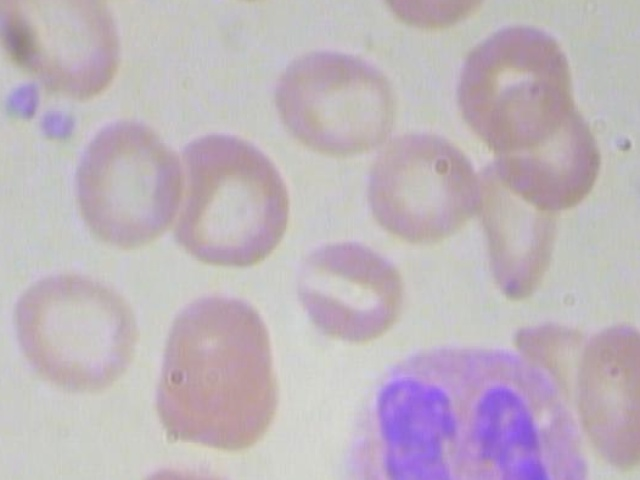Platelets: (0, 75, 43, 128), (33, 99, 78, 148)
RBC: (149, 122, 295, 280), (5, 265, 150, 408), (455, 1, 576, 160), (61, 112, 194, 256), (264, 32, 404, 164), (460, 147, 571, 311), (155, 285, 282, 420), (360, 123, 484, 252), (288, 226, 406, 355), (0, 0, 127, 109), (568, 313, 640, 480), (364, 0, 499, 43), (117, 453, 263, 480)
WBC: (320, 334, 599, 480)
